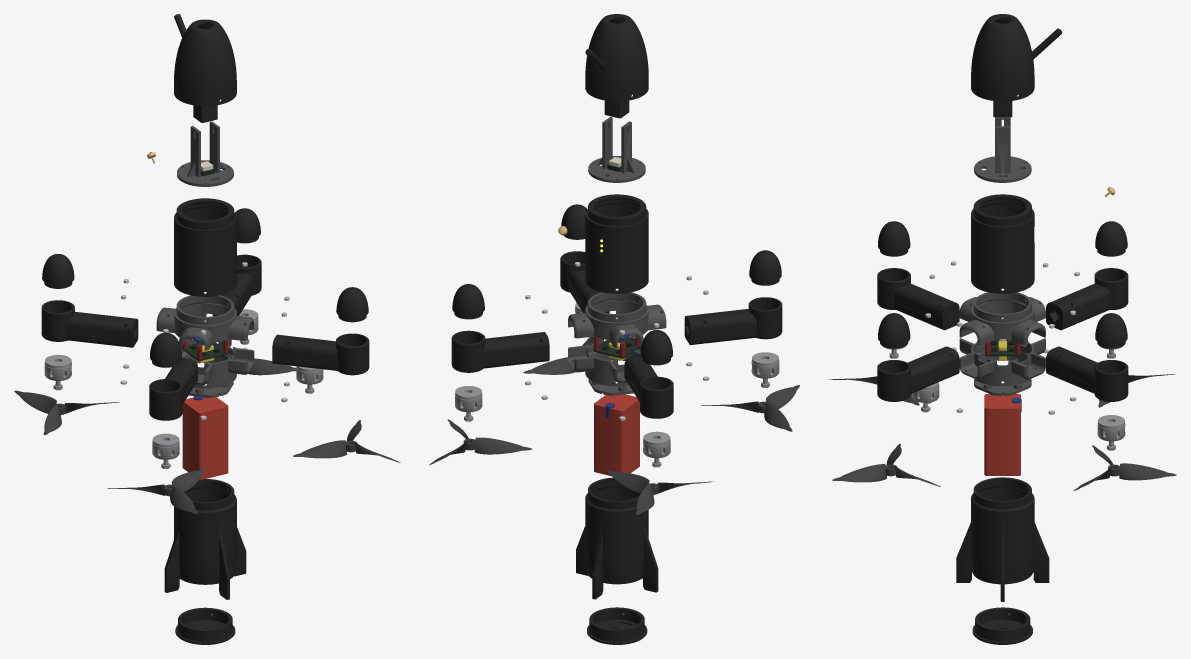
Rendered from dron_explosionado.glb.
3 views of the same model, side by side, from view 1: azimuth 30°, elevation 25°; view 2: azimuth 150°, elevation 25°; view 3: azimuth 270°, elevation 25° (orthographic).
Parts seen in each view (by area): view 1: cola.001, cuerpo_superior.001, nariz.001, Bateria LiPo 6S 1300mAh.001, buje_superior.001, brazo_2.001, brazo_4.001, brazo_3.001, soporte_camara.001, tapa_cola.001, buje_inferior.001, brazo_1.001 (+9 smaller); view 2: cola.001, cuerpo_superior.001, nariz.001, buje_superior.001, Bateria LiPo 6S 1300mAh.001, brazo_3.001, brazo_1.001, brazo_2.001, soporte_camara.001, tapa_cola.001, buje_inferior.001, brazo_4.001 (+11 smaller); view 3: cola.001, cuerpo_superior.001, nariz.001, buje_superior.001, Bateria LiPo 6S 1300mAh.001, brazo_2.001, brazo_3.001, brazo_1.001, brazo_4.001, buje_inferior.001, tapa_cola.001, soporte_camara.001 (+8 smaller).
Part boxes in pixels (x1,y1,x2,y2): cola.001: (164, 479, 246, 599); cuerpo_superior.001: (174, 198, 236, 296); nariz.001: (174, 14, 236, 106); Bateria LiPo 6S 1300mAh.001: (182, 397, 228, 479); buje_superior.001: (156, 295, 254, 350); brazo_2.001: (41, 300, 138, 347); brazo_4.001: (272, 333, 369, 375); brazo_3.001: (149, 358, 197, 420); soporte_camara.001: (177, 121, 233, 186); tapa_cola.001: (175, 607, 235, 644); buje_inferior.001: (181, 339, 254, 388); brazo_1.001: (212, 254, 261, 316); cola.001: (576, 477, 658, 599); cuerpo_superior.001: (585, 194, 648, 293); nariz.001: (585, 14, 648, 101); buje_superior.001: (568, 292, 666, 347); Bateria LiPo 6S 1300mAh.001: (594, 394, 639, 476); brazo_3.001: (684, 297, 782, 344); brazo_1.001: (451, 330, 549, 372); brazo_2.001: (624, 355, 673, 418); soporte_camara.001: (588, 116, 645, 182); tapa_cola.001: (587, 607, 647, 644); buje_inferior.001: (568, 336, 641, 386); brazo_4.001: (560, 251, 609, 313); cola.001: (956, 477, 1049, 601); cuerpo_superior.001: (971, 194, 1034, 293); nariz.001: (971, 14, 1062, 101); buje_superior.001: (959, 292, 1045, 345); Bateria LiPo 6S 1300mAh.001: (984, 394, 1020, 475); brazo_2.001: (1046, 268, 1128, 330); brazo_3.001: (877, 268, 959, 330); brazo_1.001: (1046, 346, 1128, 401); brazo_4.001: (877, 346, 959, 401); buje_inferior.001: (959, 338, 1045, 386); tapa_cola.001: (972, 607, 1032, 644); soporte_camara.001: (974, 117, 1031, 182).
Bounding box in the file's own units: 0.3152 × 0.682 × 0.3515.
